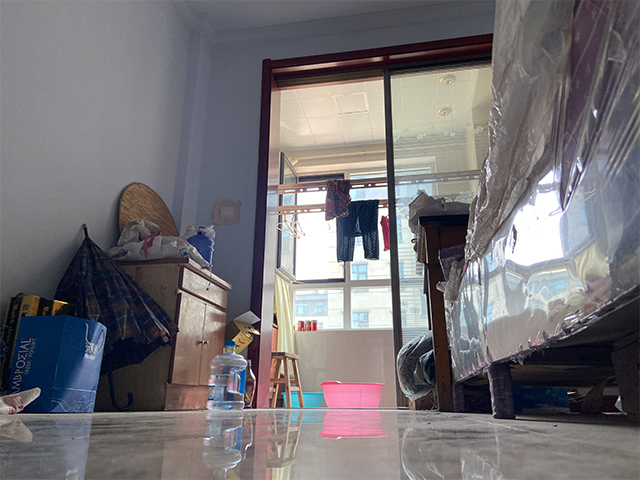bed: (438, 2, 640, 420)
cabinet: (95, 257, 233, 412)
stool: (270, 350, 305, 409)
